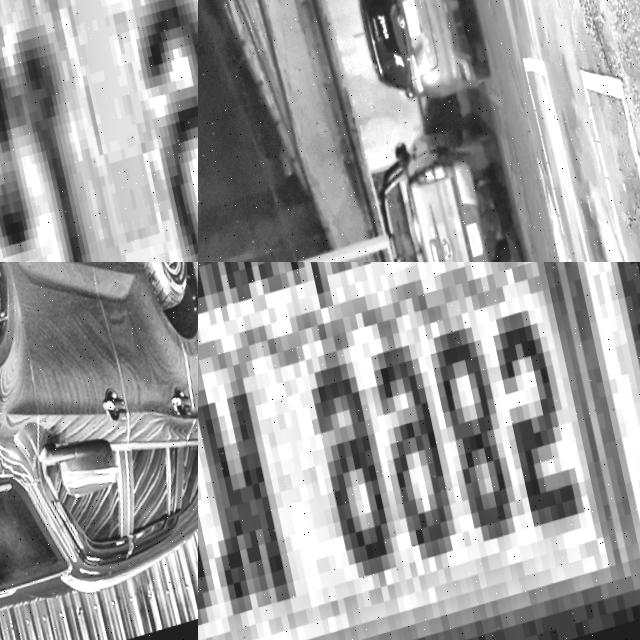license-plate: (198, 262, 640, 640), (0, 0, 198, 262), (458, 58, 492, 89), (290, 126, 322, 153)
